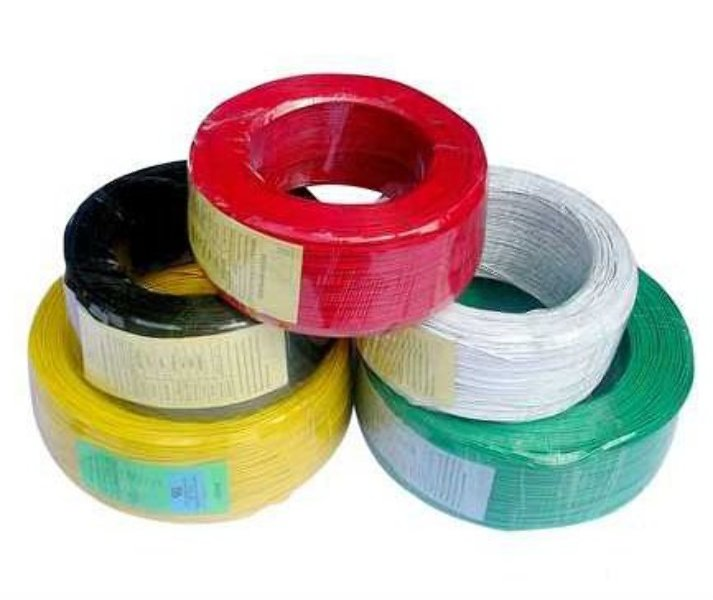Nonrec_Tangler: (35, 38, 681, 523)
